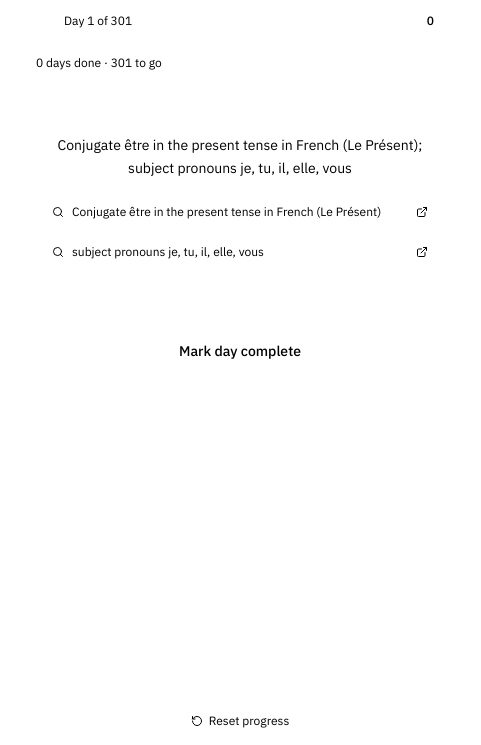
Test: kwiziq module output › after marking the day complete
The image size is (481, 745).
Click the button "Mark day complete": (240, 351) left=16, top=327, right=464, bottom=375
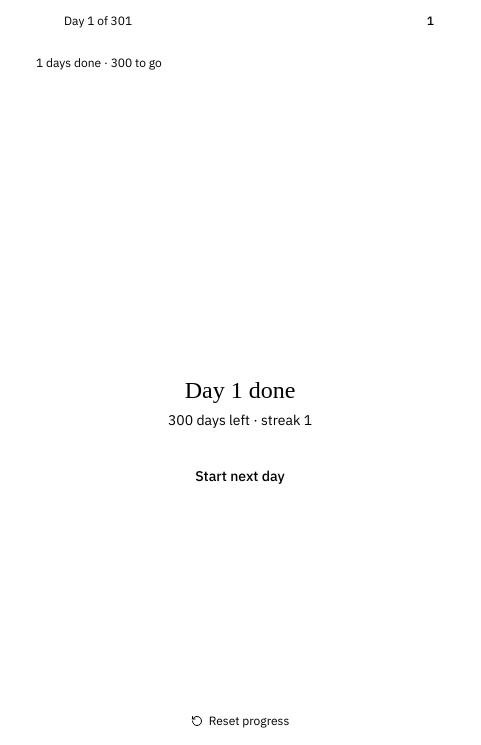
Check: the text "Day 1 done" is shown, box left=185, top=374, right=295, bottom=406
